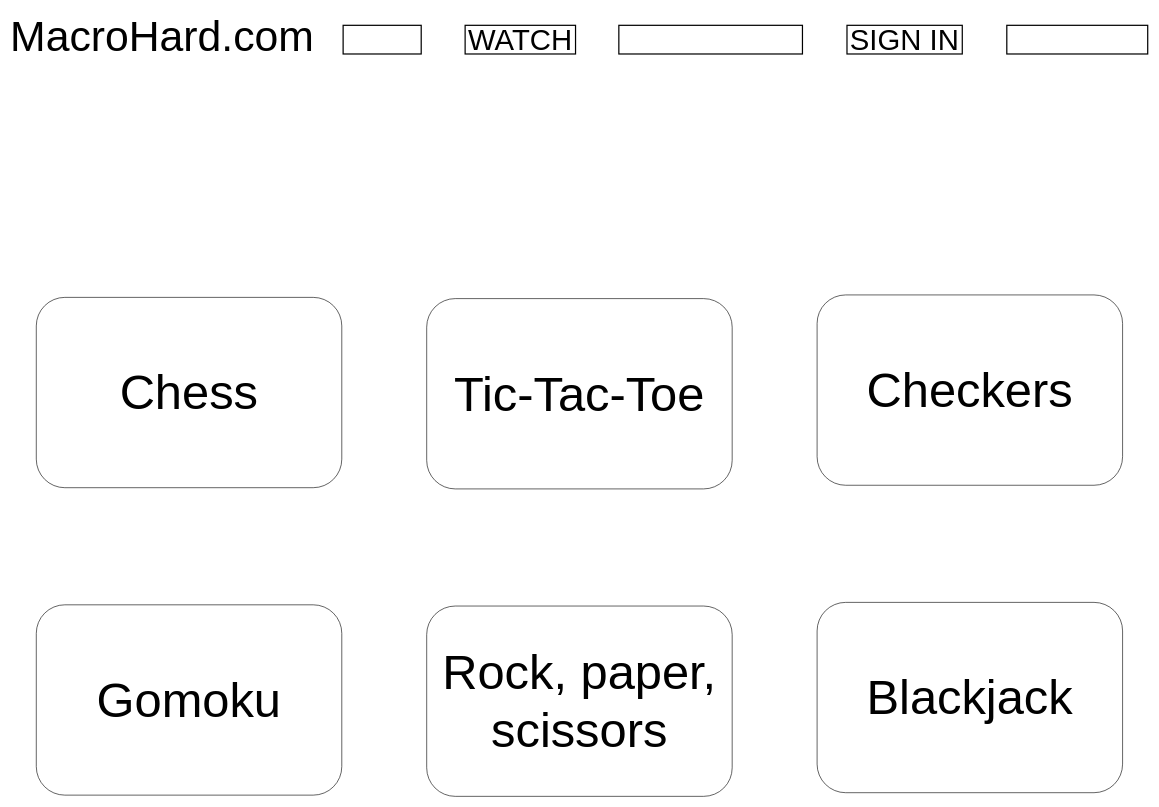
This 1159x807 diagram has some shape labels left out. Each missing label, with the box of its shape:
COMMUNITY: (618, 24, 803, 54)
PLAY: (342, 24, 422, 54)
SIGN UP: (1006, 24, 1148, 54)
